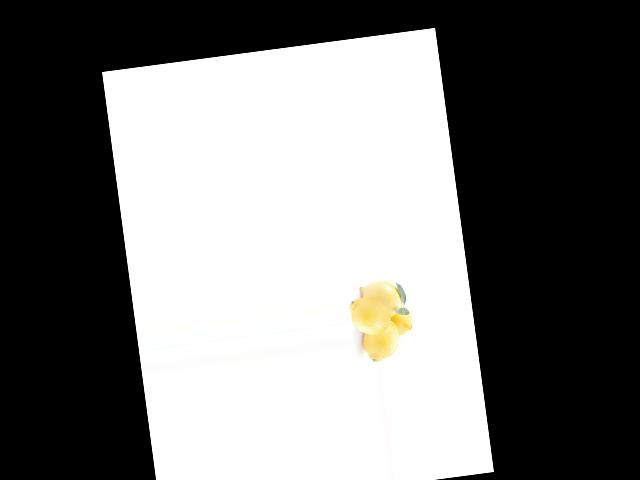lemon: (364, 317, 403, 364)
